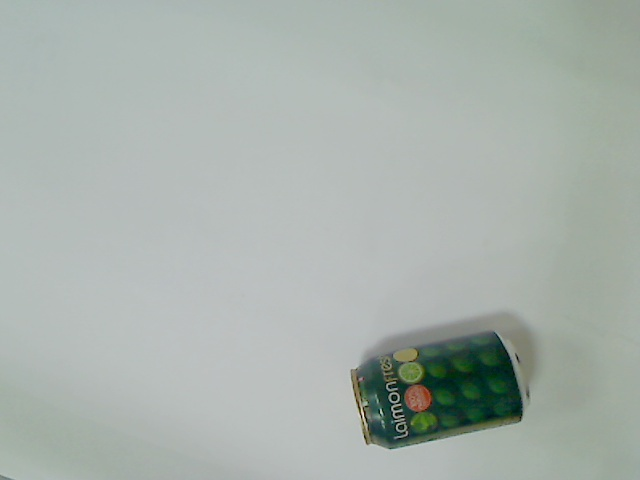can: (349, 327, 536, 452)
